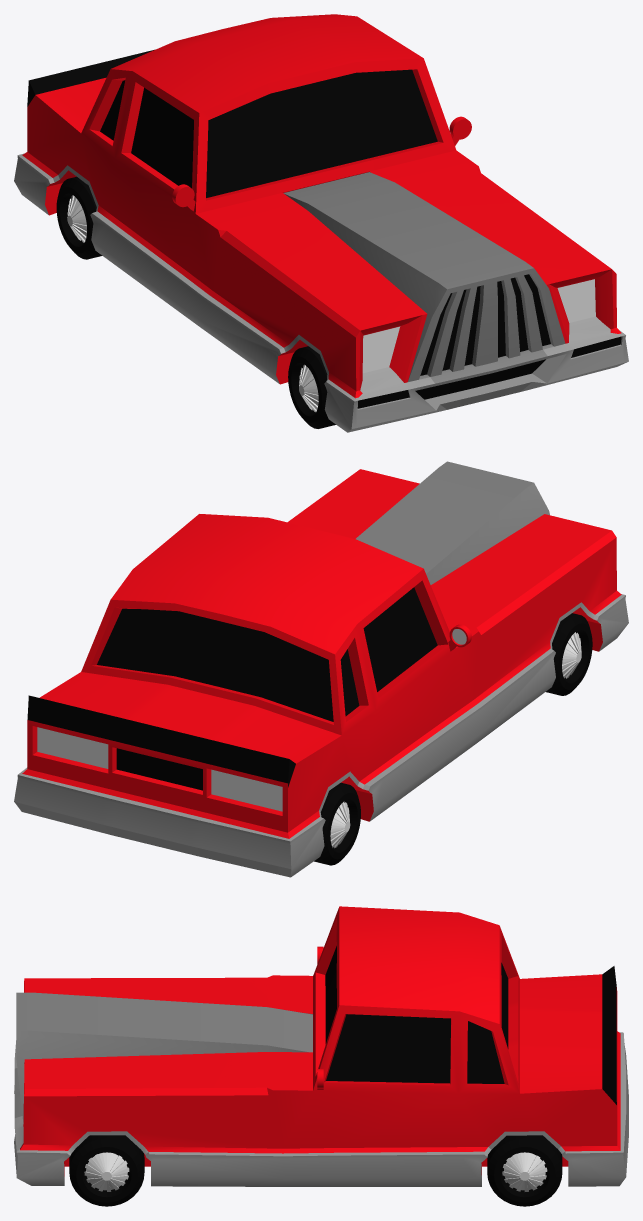
The model's file is car vip.fbx.
The picture shows the model from 3 angles, top to bottom: view 1: azimuth 30°, elevation 25°; view 2: azimuth 150°, elevation 25°; view 3: azimuth 270°, elevation 25°; orthographic projection. The views are drawn at different scales.
Visible parts, largest first — view 1: Cube, Cylinder.001, Cylinder; view 2: Cube, Cylinder.001, Cylinder; view 3: Cube, Cylinder.003, Cylinder.002.
Part boxes in pixels (x1,y1,x2,y2): Cube: (14, 14, 628, 432); Cylinder.001: (288, 346, 335, 428); Cylinder: (56, 176, 102, 259); Cube: (14, 461, 628, 877); Cylinder.001: (546, 613, 592, 695); Cylinder: (314, 782, 360, 865); Cube: (14, 906, 628, 1186); Cylinder.003: (487, 1135, 562, 1206); Cylinder.002: (69, 1135, 144, 1206).
Bounding box in the file's own units: 535 × 393 × 1067.
